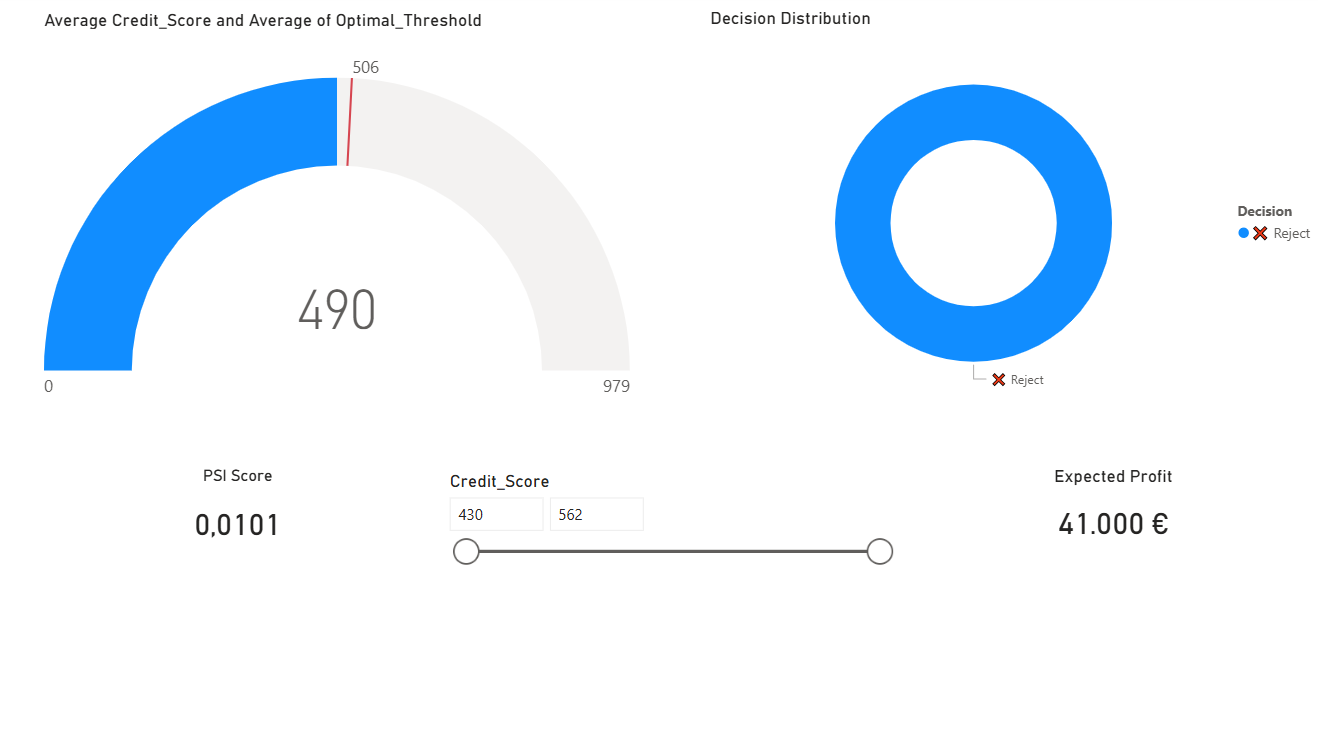

The dashboard page shown, as its layout file describes it:
{"tool":"powerbi","page":{"name":"Page 1","canvas":[1280,720],"ordinal":0},"visuals":[{"type":"gauge","title":"Average Credit_Score and Average of Optimal_Threshold","fields":{"Y":["Avg(credit_scoring_results (2).Credit_Score)"],"TargetValue":["Avg(credit_scoring_results (2).Optimal_Threshold)"]},"box":[38.6,14.5,575.5,396.9],"z":0},{"type":"donutChart","title":"Decision Distribution","fields":{"Y":["CountNonNull(credit_scoring_results (2).Decision)"],"Category":["credit_scoring_results (2).Decision"]},"box":[681.6,13.3,598.4,396.9],"z":1000},{"type":"slicer","fields":{"Values":["credit_scoring_results (2).Credit_Score"]},"box":[422.3,454.8,448.8,179.8],"z":2000},{"type":"card","title":"PSI Score","fields":{"Values":["Avg(credit_scoring_results (2).PSI_Score)"]},"box":[38.6,456,383.6,90.5],"z":3000},{"type":"card","title":"Expected Profit","fields":{"Values":["Avg(credit_scoring_results (2).Max_Expected_Profit)"]},"box":[871.1,454.8,409,90.5],"z":4000}]}

Visuals, with their boxes in screenshot pixels (x1, y1, x2, y2), scaled from the page's 1280x720 canvas onto the 1318x738 screenshot:
"Average Credit_Score and Average of Optimal_Threshold" gauge: box=[40, 15, 632, 422]
"Decision Distribution" donutChart: box=[702, 14, 1317, 420]
slicer - credit_scoring_results (2).Credit_Score: box=[435, 466, 897, 650]
"PSI Score" card: box=[40, 467, 435, 560]
"Expected Profit" card: box=[897, 466, 1317, 559]
